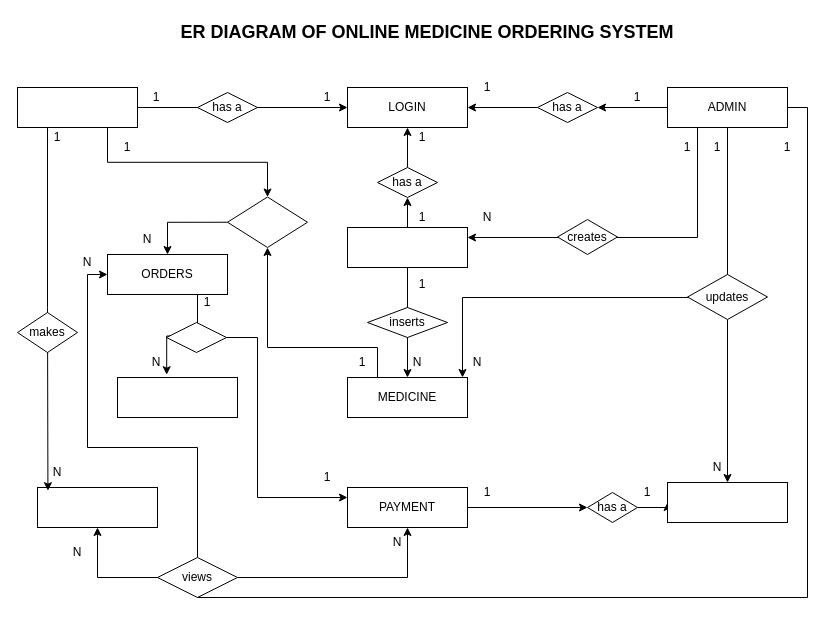
This 833x623 diagram has some shape labels left out. The centre of each missing label's shape, as x and y in pixels:
"CUSTOMER" goes at point (77, 107).
"DELIVERYDET" goes at point (727, 502).
"EMPLOYEE" goes at point (407, 247).
"FEEDBACK" goes at point (97, 507).
"has" goes at point (196, 337).
"ORDERITEMS" goes at point (177, 397).
"place" goes at point (267, 222).
